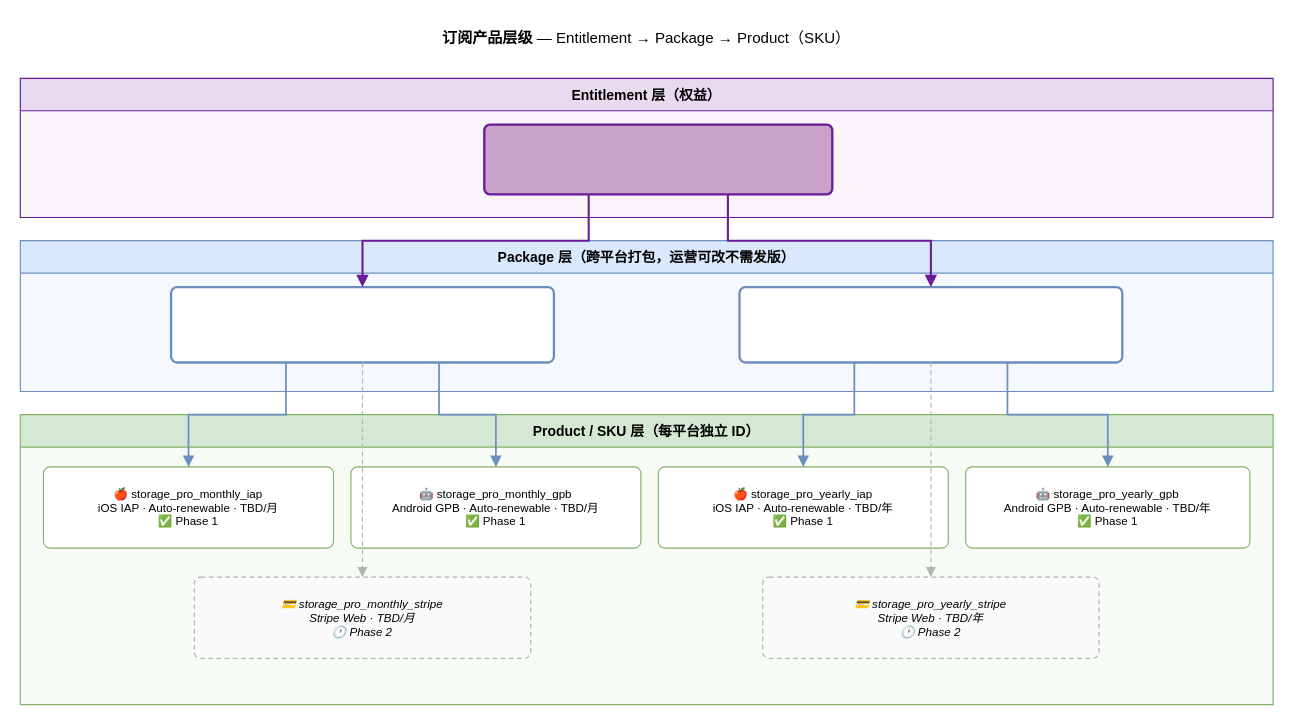
The diagram is 1293 pixels wide and 725 high, and some of its shapes have lost their labels. Here are the shapes that lost their labels. From the top down, the centre of each, then its label:
pixel 658 159: 🔑 storage_pro （解锁存储服务 Pro 全部功能）
pixel 361 324: 📆 storage_pro_monthly （月订阅 Package）
pixel 930 324: 📅 storage_pro_yearly （年订阅 Package · 更划算）
